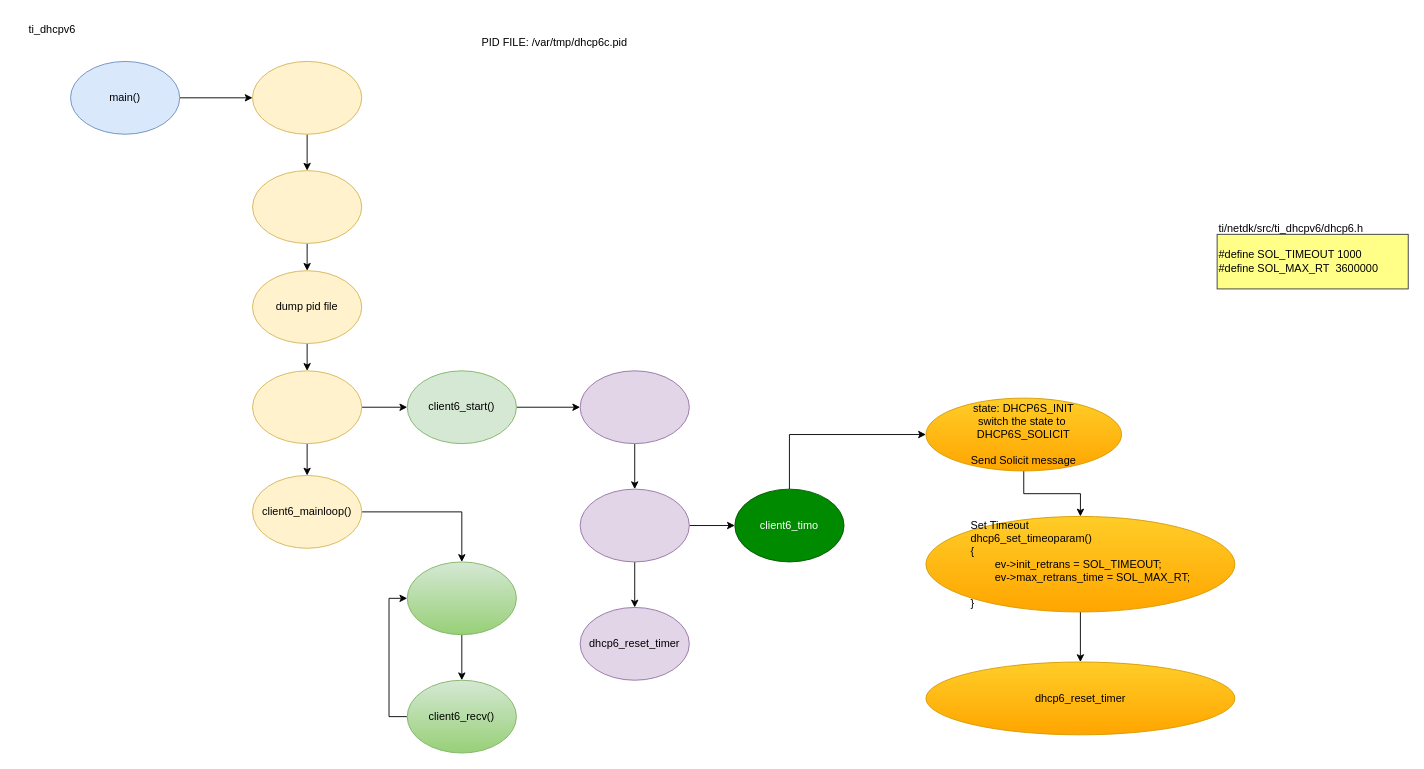
Some shapes in this 1424 by 769 pixel diagram are drawn without their labels. The shapes that lost their labels are listed below. From the top down, each one's box as (x1, y1, x2, y2) in pixels, then its label:
(252, 61, 362, 134): default_plugin_init()
(252, 170, 362, 243): ti_dhcp6c_option_parse()
(252, 370, 362, 444): client6_startall()
(579, 370, 689, 444): dhcp6_create_event DHCP6S_INIT
(579, 488, 689, 562): dhcp6_add_timer
(406, 561, 516, 635): dhcp6_check_timer()
